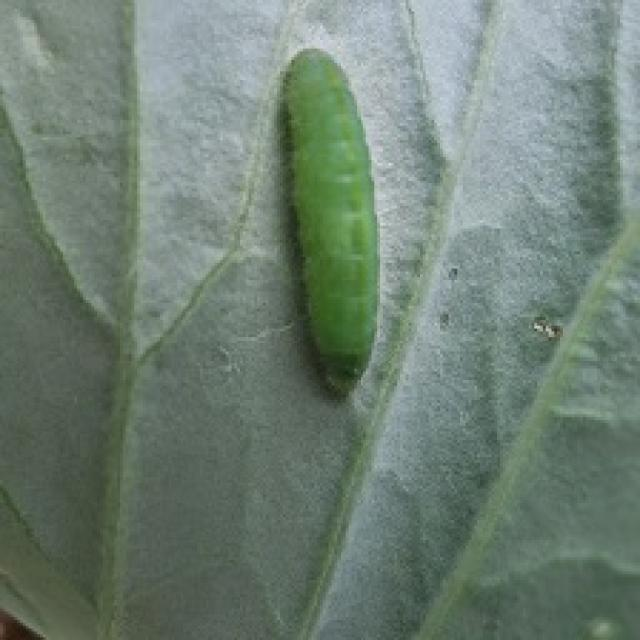Cabbage-worm: (277, 23, 409, 401)
